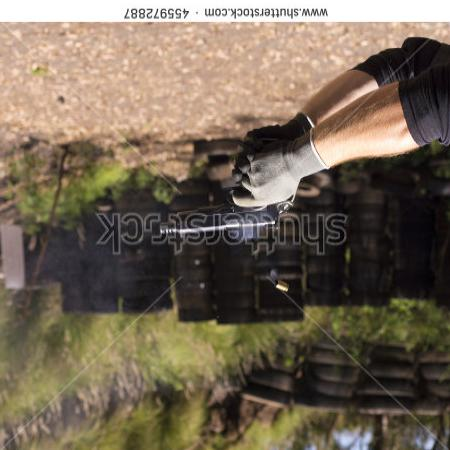Pistol: (161, 138, 286, 238)
